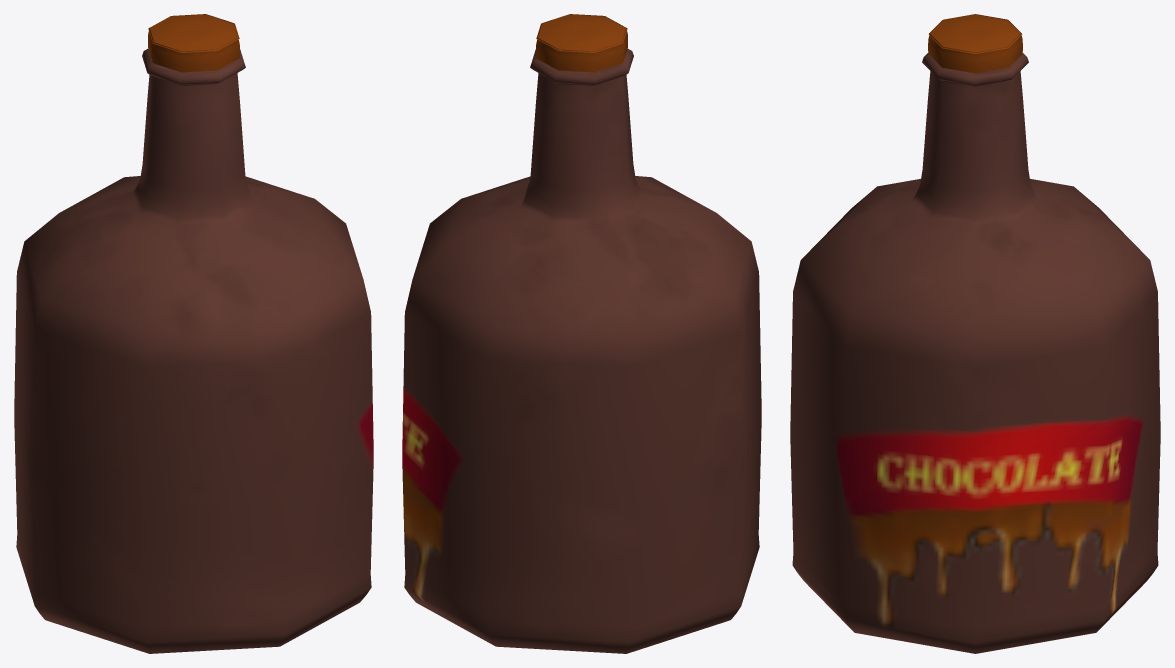
File: Chocolate Sauce Glass Container.fbx
3 renders of one model, left to right at view 1: azimuth 30°, elevation 25°; view 2: azimuth 150°, elevation 25°; view 3: azimuth 270°, elevation 25°, orthographic.
Visible parts, largest first — view 1: Chocolate_Sauce_Glass_Container; view 2: Chocolate_Sauce_Glass_Container; view 3: Chocolate_Sauce_Glass_Container.
Part boxes in pixels (x1,y1,x2,y2): Chocolate_Sauce_Glass_Container: [14, 14, 373, 653]; Chocolate_Sauce_Glass_Container: [402, 14, 761, 653]; Chocolate_Sauce_Glass_Container: [790, 14, 1160, 653].
Size of the model in its own units: 15.72 by 26.51 by 15.72.
1 material, 1 textured.
